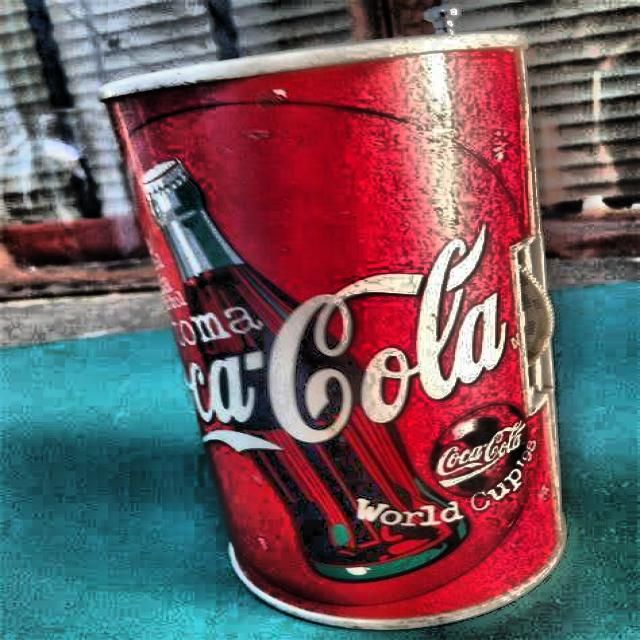Cans: (51, 19, 613, 636)
